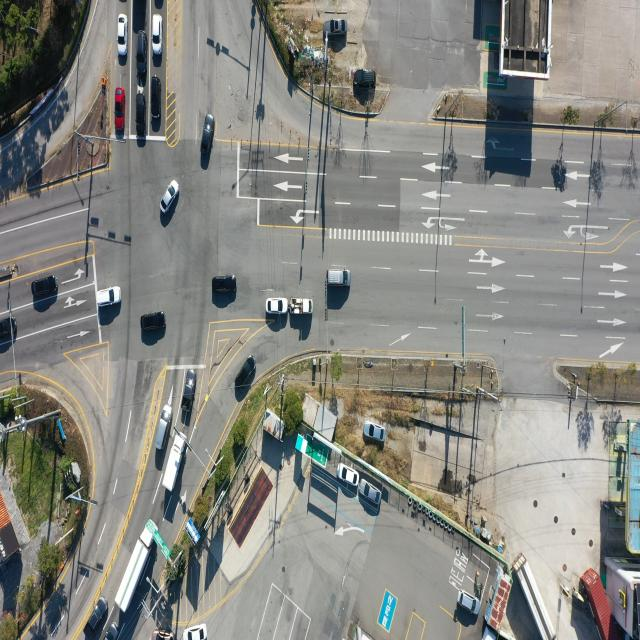car: (84, 598, 106, 638), (157, 405, 174, 451), (236, 356, 256, 392), (116, 87, 128, 138), (136, 93, 148, 144), (161, 182, 179, 215), (456, 590, 478, 617), (32, 276, 58, 298), (359, 480, 381, 506), (182, 371, 195, 414), (150, 76, 160, 130), (338, 462, 360, 486), (97, 286, 122, 307), (213, 276, 238, 296), (141, 314, 166, 334), (202, 114, 215, 152), (326, 269, 350, 288), (363, 422, 385, 442), (136, 34, 146, 76), (117, 15, 127, 56), (267, 299, 289, 316), (152, 15, 161, 55), (356, 68, 376, 86), (324, 18, 344, 36), (186, 624, 208, 640), (0, 317, 16, 339), (103, 621, 118, 640), (153, 630, 174, 640), (153, 0, 162, 9)
medium_truck: (117, 518, 158, 613), (519, 555, 559, 638), (162, 430, 186, 493)
small_truck: (292, 299, 314, 316)
